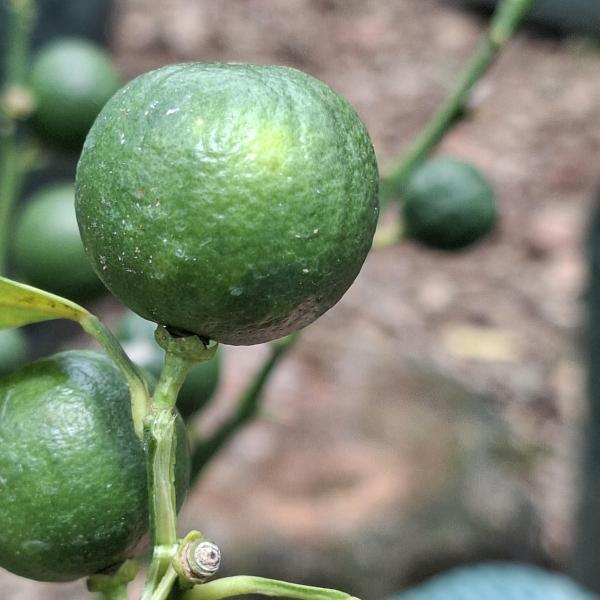Scab: (64, 44, 394, 367)
